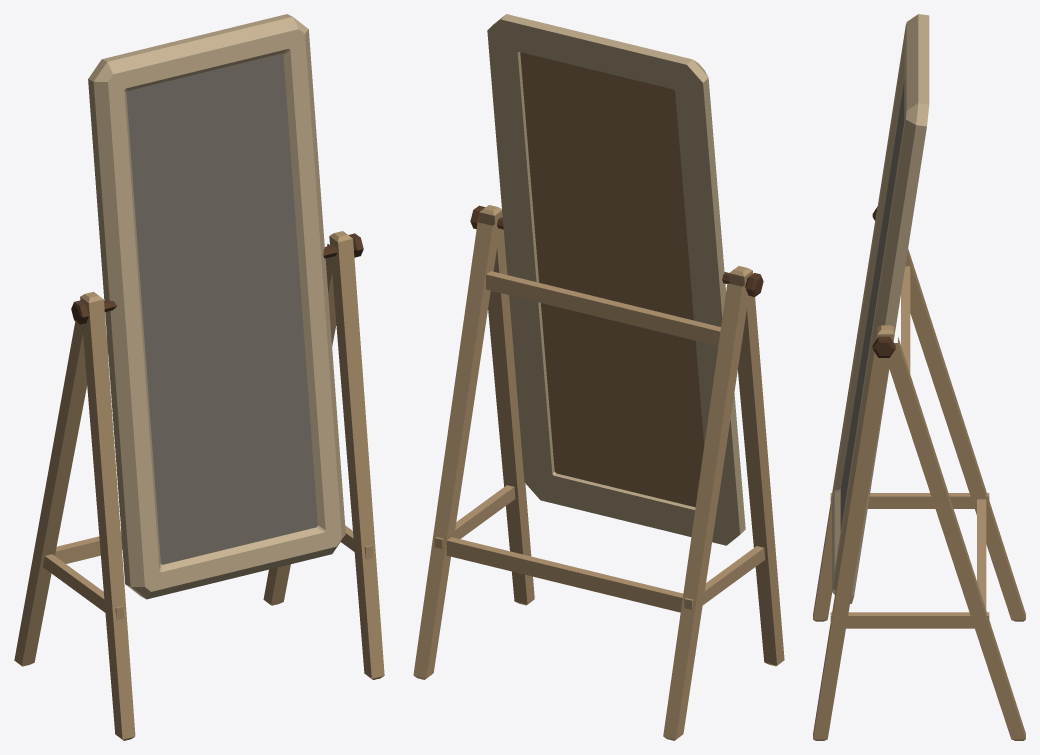
The model's file is dressing-mirror-7c0871.glb.
3 renders of one model, left to right at view 1: azimuth 30°, elevation 25°; view 2: azimuth 150°, elevation 25°; view 3: azimuth 270°, elevation 25°, orthographic. The views are drawn at different scales.
Parts seen in each view (by area): view 1: mirror, dressing-mirror; view 2: mirror, dressing-mirror; view 3: dressing-mirror, mirror.
Boxes of the visible parts, box(x1,y1,x2,y2) form: mirror: box(88, 14, 345, 599); dressing-mirror: box(14, 231, 384, 740); mirror: box(487, 14, 745, 545); dressing-mirror: box(413, 205, 784, 740); dressing-mirror: box(813, 206, 1025, 740); mirror: box(832, 14, 929, 603).
Bounding box in the file's own units: 0.75 × 1.6 × 0.4967.
